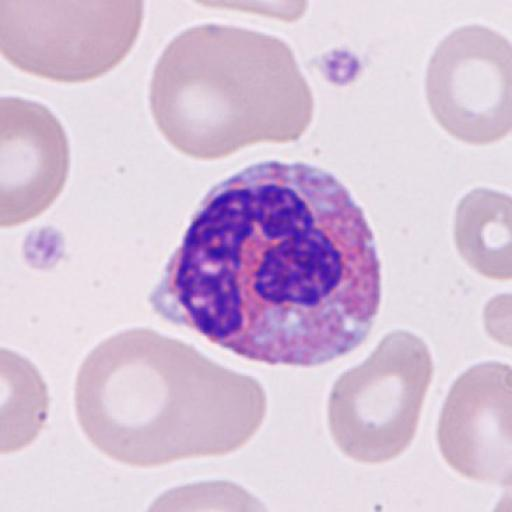RBC: (72, 326, 269, 469), (146, 22, 314, 162), (324, 329, 434, 466), (146, 34, 261, 162), (206, 24, 316, 144), (1, 1, 146, 84), (422, 20, 512, 147), (2, 92, 72, 226), (436, 358, 511, 483), (452, 183, 512, 283), (1, 345, 52, 458), (138, 477, 278, 512), (177, 0, 314, 25), (222, 0, 312, 24), (482, 284, 511, 350), (487, 460, 512, 512)
WBC: (149, 159, 384, 368)
